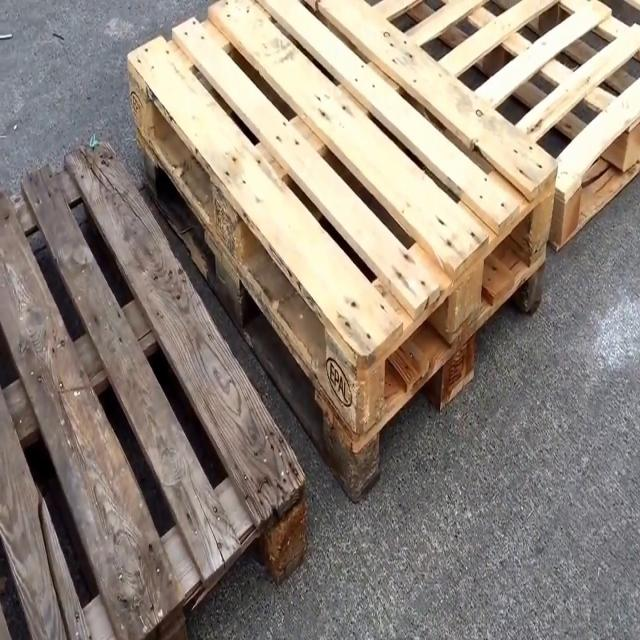Palette: (115, 0, 570, 527), (0, 138, 319, 640), (361, 0, 640, 270)
